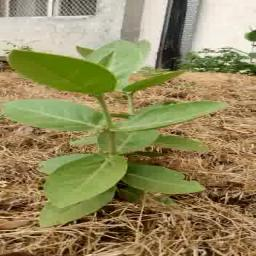CALOTROPIS: (19, 41, 204, 214)
